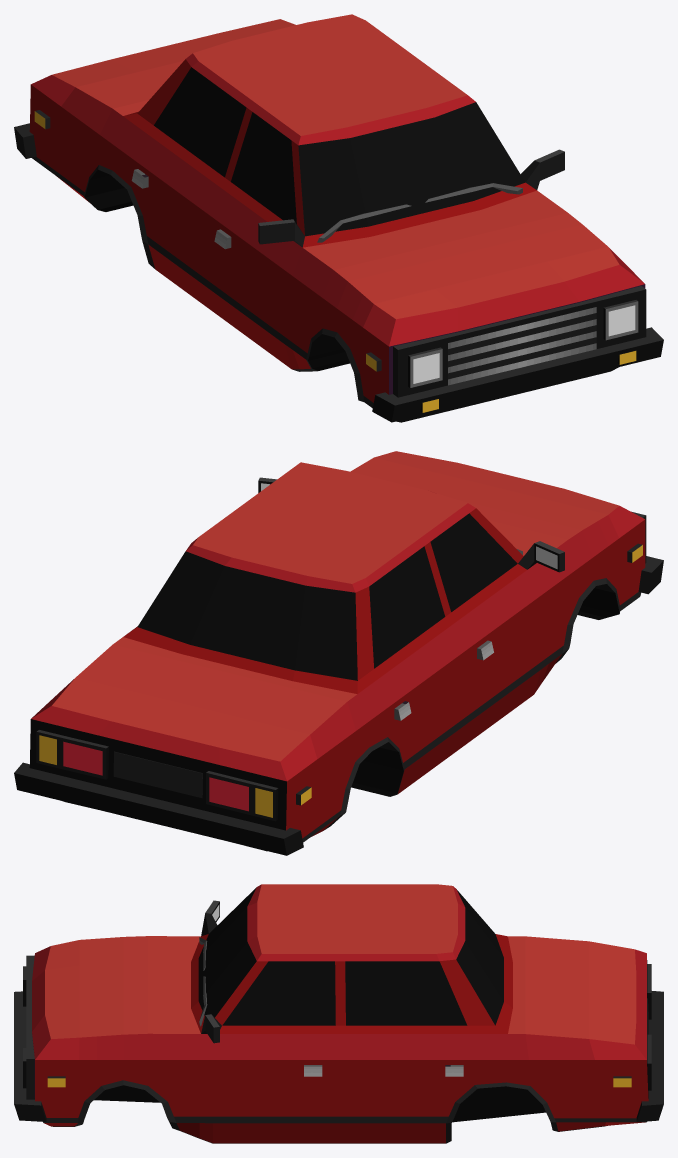
Rendered from SedanRed.fbx.
The picture shows the model from 3 angles, top to bottom: view 1: azimuth 30°, elevation 25°; view 2: azimuth 150°, elevation 25°; view 3: azimuth 270°, elevation 25°; orthographic projection. The views are drawn at different scales.
Visible parts, largest first — view 1: SedanRed; view 2: SedanRed; view 3: SedanRed.
Part boxes in pixels (<box>): SedanRed: <box>14,14,663,422</box>; SedanRed: <box>14,451,663,855</box>; SedanRed: <box>14,884,663,1143</box>.
Bounding box in the file's own units: 1.75 × 1.14 × 3.78.
